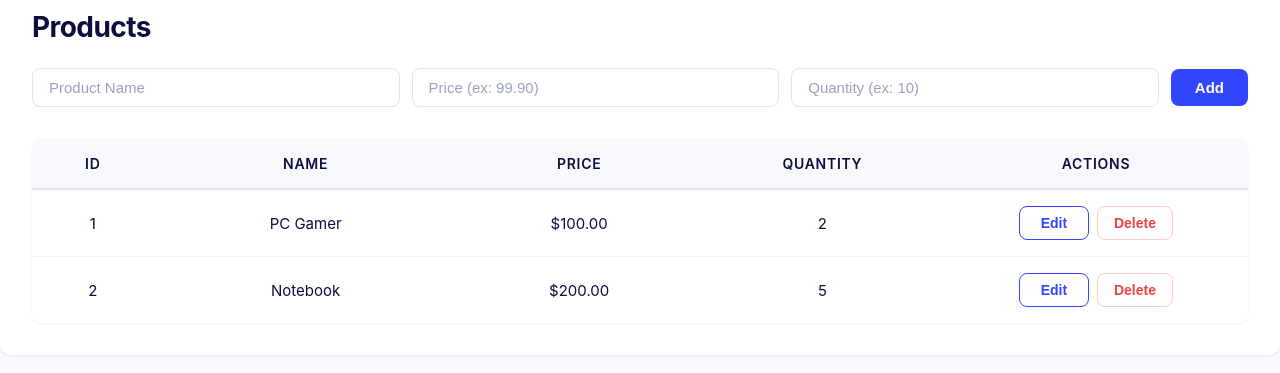
Test: Products Component - Suite Completa › Editar Produto › preenche formulário ao clicar em Edit
Expected: the text "PC Gamer" is shown, [154,190,458,257]
Click the button "Edit" in the row of "PC Gamer": click(1054, 223) [1019,206,1089,240]
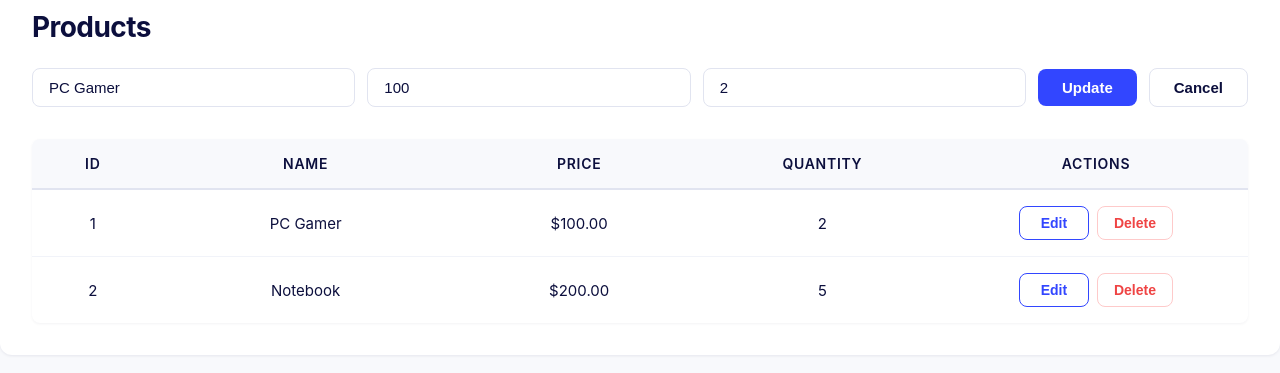
Now the field with placeholder "Product Name" holds "PC Gamer", box [32,68,355,107]
Now the 1st number field with placeholder "Price (ex: 99.90)" holds "100", box [367,68,691,107]
Now the 2nd number field with placeholder "Quantity (ex: 10)" holds "2", box [703,68,1026,107]
